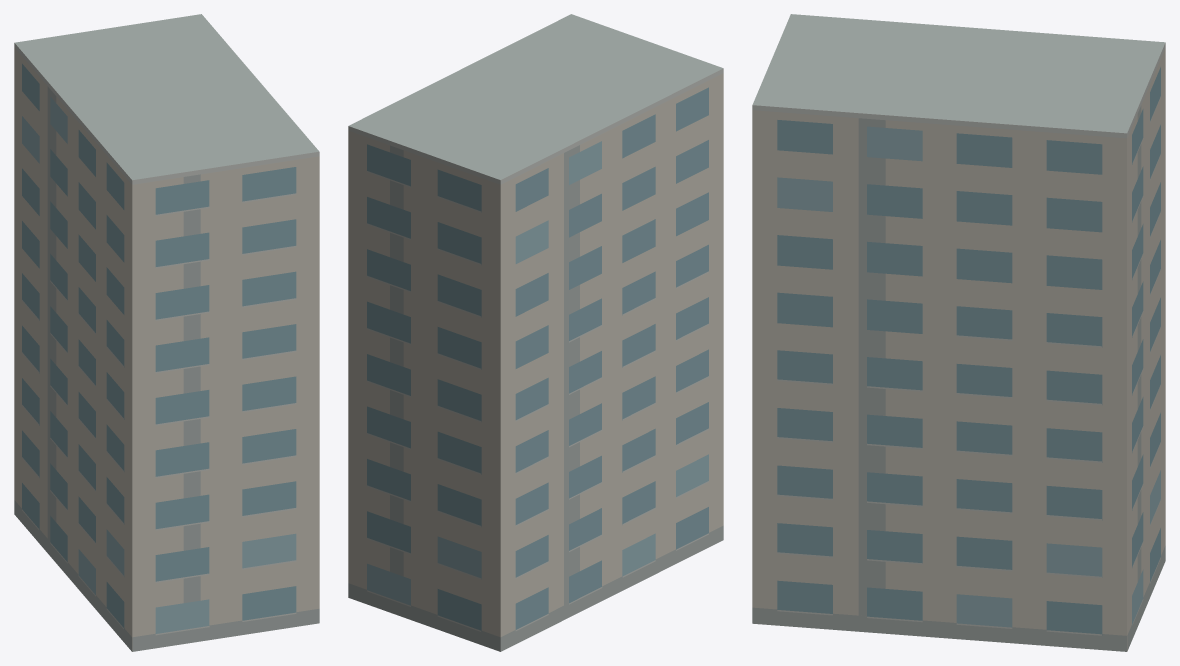
File: residential-9f1c3799-b1a0-490e-b724-9e3e27e6749b.glb
3 renders of one model, left to right at view 1: azimuth 30°, elevation 25°; view 2: azimuth 150°, elevation 25°; view 3: azimuth 270°, elevation 25°, orthographic. The views are drawn at different scales.
Visible parts, largest first — view 1: residential-9f1c3799-b1a0-490e-b724-9e3e27e6749b.tmp; view 2: residential-9f1c3799-b1a0-490e-b724-9e3e27e6749b.tmp; view 3: residential-9f1c3799-b1a0-490e-b724-9e3e27e6749b.tmp.
Part boxes in pixels (x1,y1,x2,y2): residential-9f1c3799-b1a0-490e-b724-9e3e27e6749b.tmp: (14,14,319,651); residential-9f1c3799-b1a0-490e-b724-9e3e27e6749b.tmp: (348,14,723,651); residential-9f1c3799-b1a0-490e-b724-9e3e27e6749b.tmp: (752,14,1165,651).
Bounding box in the file's own units: 12.35 × 25 × 18.07.
